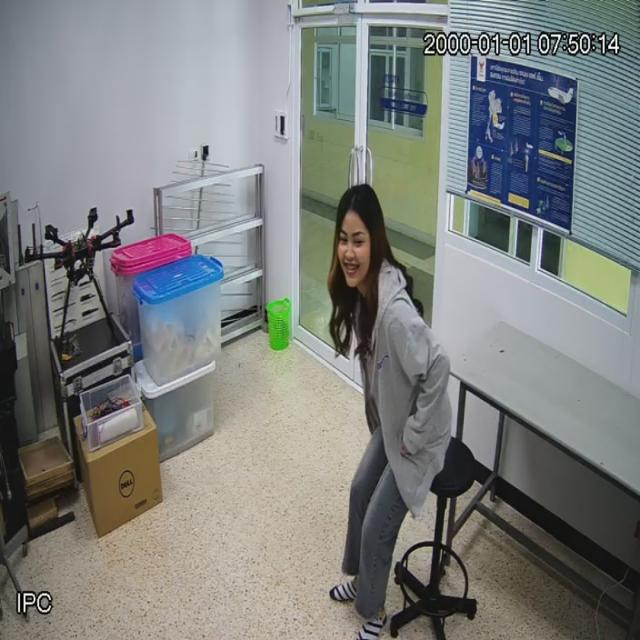normal: (320, 181, 452, 640)
